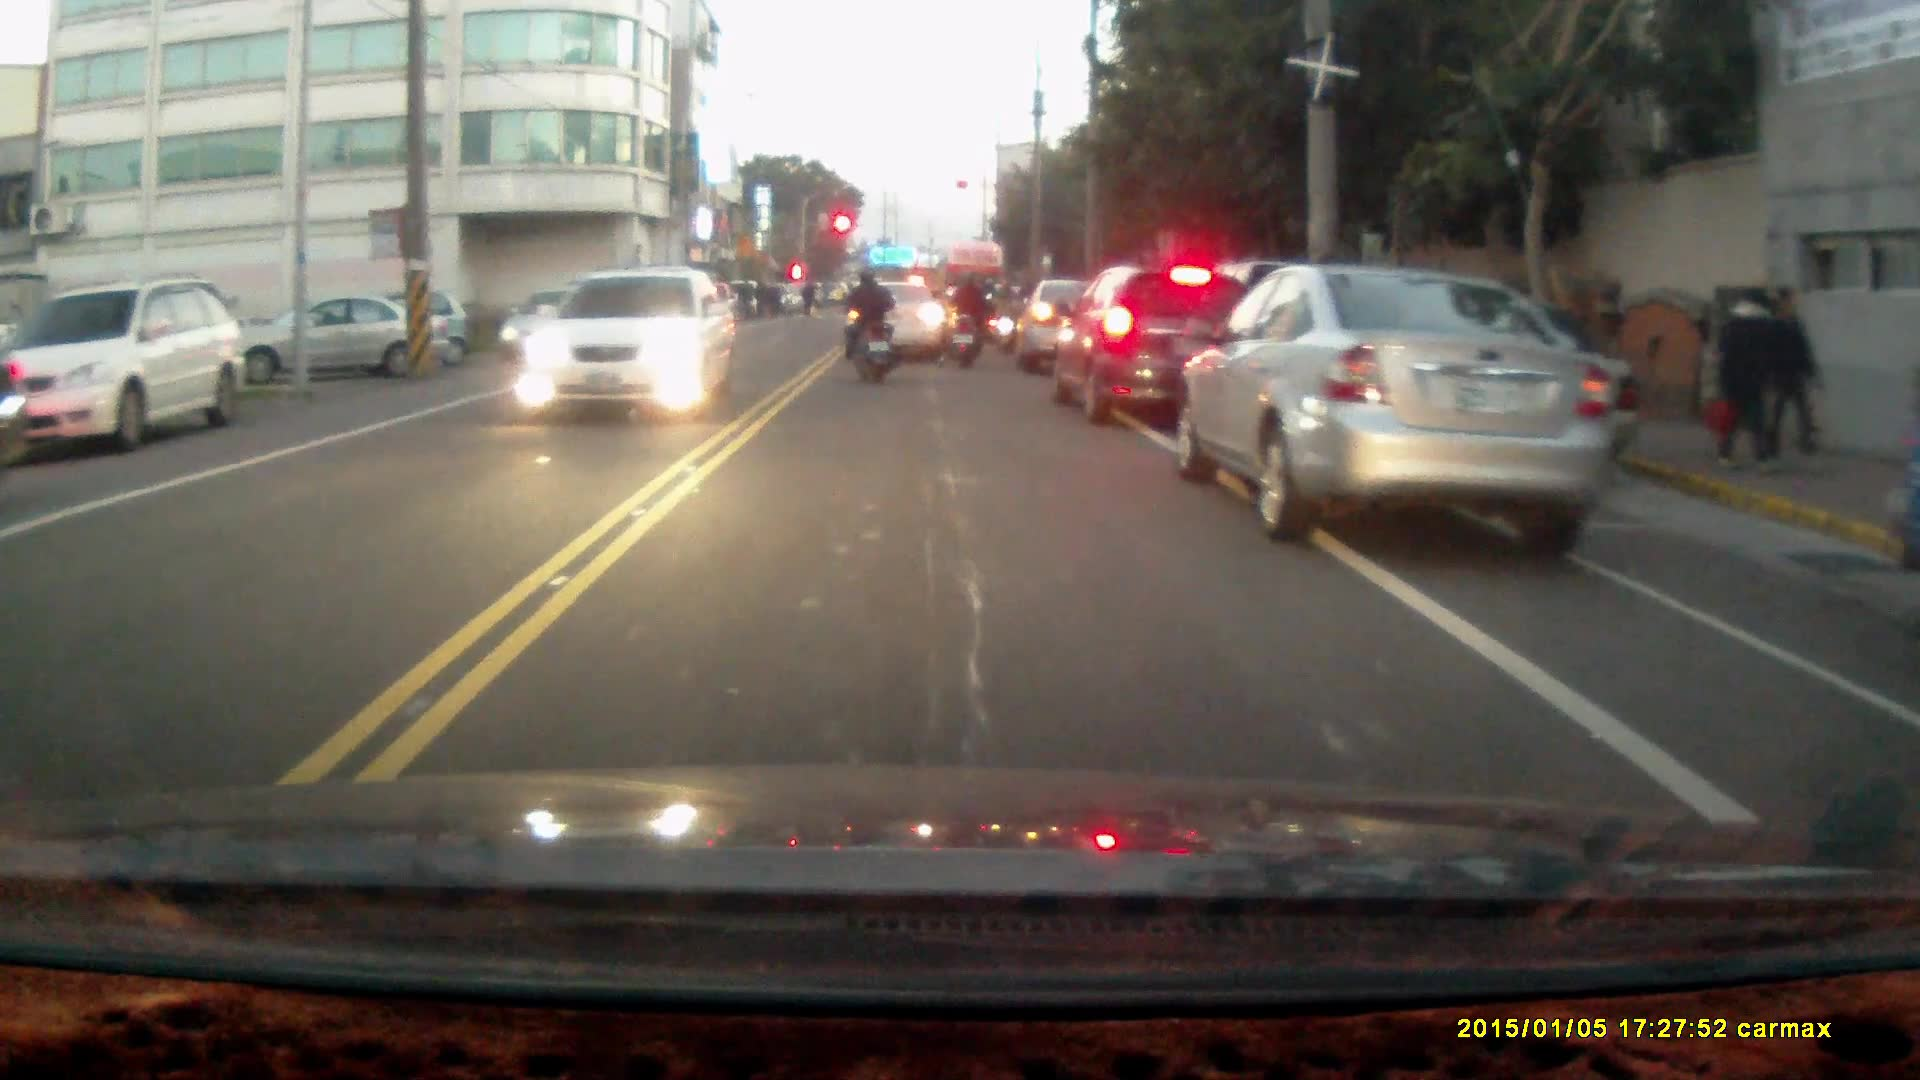pedestrian: (1715, 283, 1775, 474), (1768, 293, 1824, 475)
rider: (840, 267, 894, 386), (944, 270, 994, 368)
vehicle: (1171, 265, 1624, 566), (9, 277, 250, 459), (518, 269, 736, 423), (1052, 272, 1256, 434), (238, 296, 450, 381), (1011, 275, 1127, 380), (846, 289, 954, 371)
